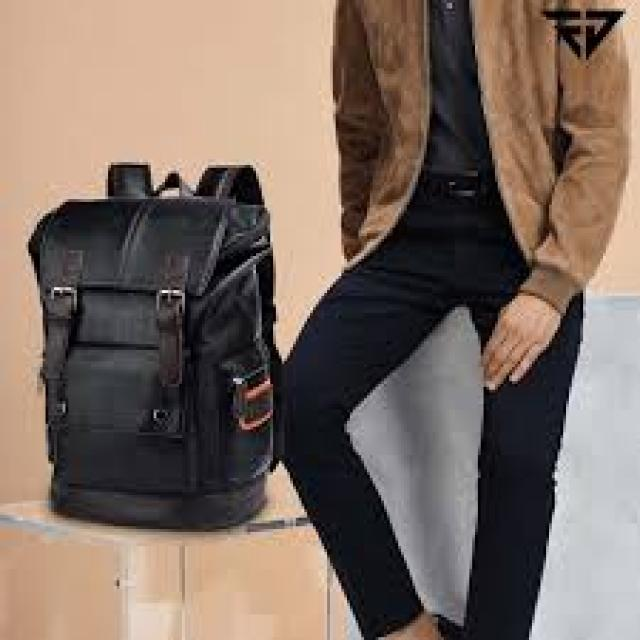backpack: (27, 160, 283, 530)
